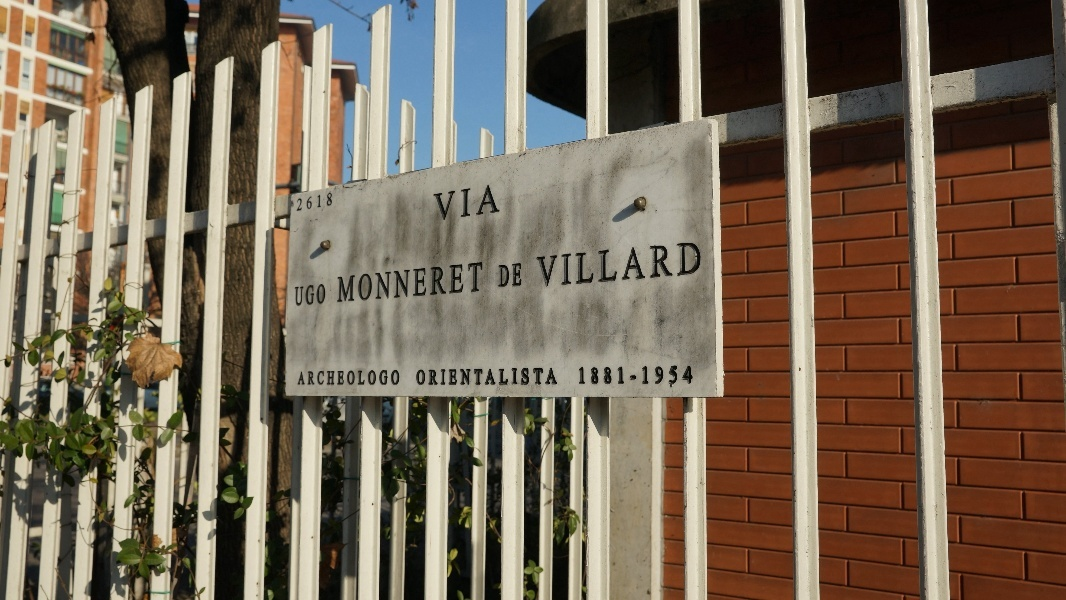text: (545, 240, 560, 288), (561, 240, 576, 288), (577, 240, 592, 288), (593, 240, 608, 288), (609, 240, 624, 288), (625, 240, 640, 288), (641, 240, 656, 288), (657, 240, 672, 288), (673, 240, 688, 288), (689, 240, 703, 288), (337, 261, 352, 303), (353, 261, 368, 303), (369, 261, 384, 303), (385, 261, 400, 303), (401, 261, 416, 303), (417, 261, 432, 303), (433, 261, 448, 303), (449, 261, 464, 303), (465, 261, 480, 303), (433, 185, 448, 220), (449, 185, 464, 220), (465, 185, 480, 220), (481, 185, 496, 220), (497, 263, 512, 289), (536, 240, 544, 288), (305, 283, 320, 306), (593, 365, 608, 386), (609, 365, 624, 386), (625, 365, 640, 386), (641, 365, 656, 386), (657, 365, 672, 386), (673, 365, 688, 386), (305, 192, 320, 213), (417, 367, 432, 386), (433, 367, 448, 386), (449, 367, 464, 386), (465, 367, 480, 386), (481, 367, 496, 386), (497, 367, 512, 386), (513, 367, 528, 386), (529, 367, 544, 386), (545, 367, 560, 386), (579, 365, 592, 386), (321, 192, 333, 213), (513, 263, 522, 289), (294, 283, 304, 306), (305, 371, 320, 386), (321, 371, 336, 386), (337, 371, 352, 386), (353, 371, 368, 386), (369, 371, 384, 386), (385, 371, 399, 386), (295, 192, 304, 213), (497, 185, 502, 220), (321, 283, 327, 306), (689, 365, 695, 386), (481, 261, 484, 303), (298, 371, 304, 386), (415, 367, 416, 386)
